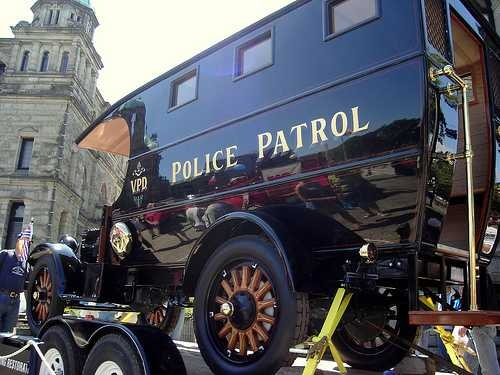Police Car: (69, 0, 482, 337)
